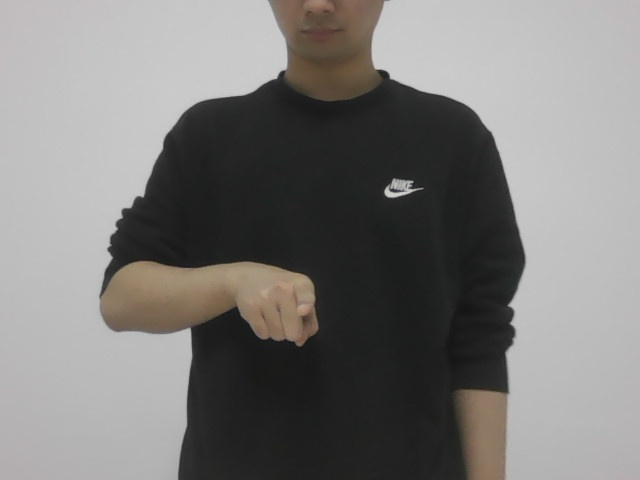you/your/this: (224, 258, 337, 345)
